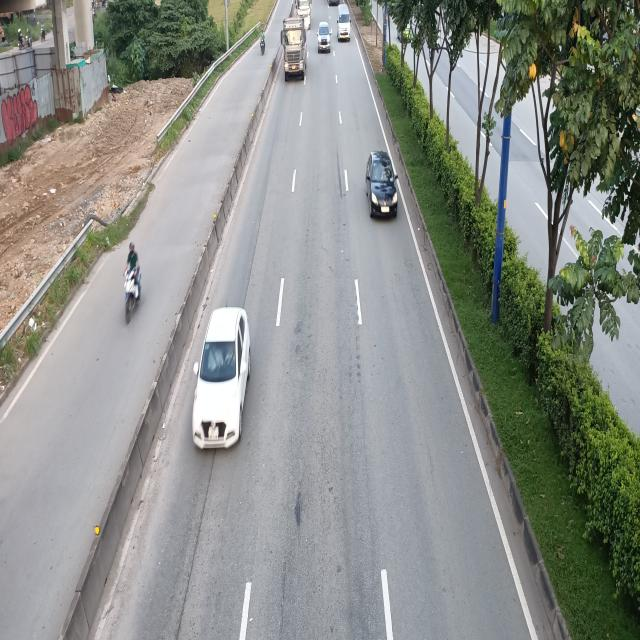car: (191, 305, 251, 452), (366, 152, 399, 221), (317, 23, 331, 54)
container: (280, 18, 308, 82)
van: (336, 6, 352, 41)
